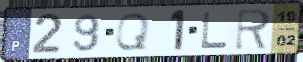1: (168, 8, 188, 53)
2: (30, 11, 66, 56)
9: (72, 12, 102, 54)
L: (200, 10, 230, 50)
Q: (113, 11, 152, 52)
R: (233, 7, 274, 52)
